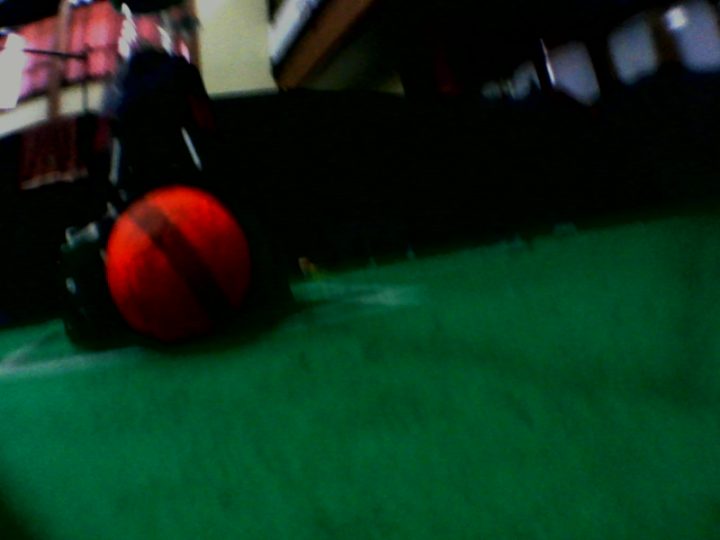bola: (100, 184, 274, 357)
